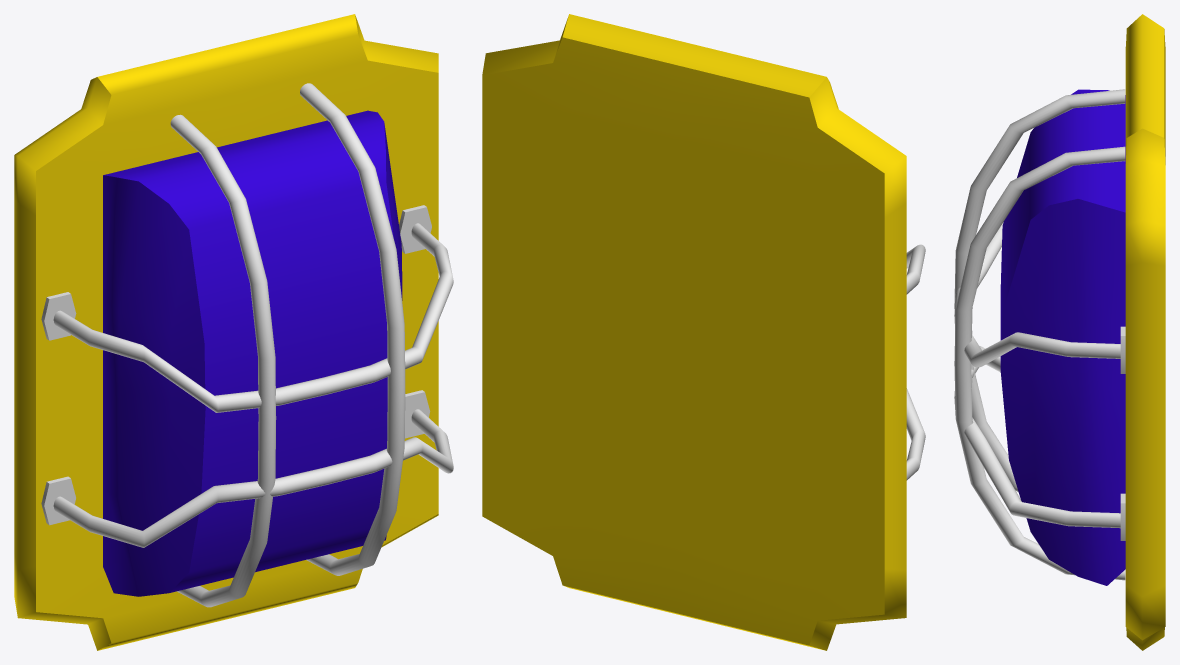
File: Light_01.FBX
3 views of the same model, side by side, from view 1: azimuth 30°, elevation 25°; view 2: azimuth 150°, elevation 25°; view 3: azimuth 270°, elevation 25° (orthographic). The views are drawn at different scales.
Visible parts, largest first — view 1: Box001, Cylinder003, Cylinder002, Cylinder001, Box004, Box003, Box002, Box005; view 2: Box001, Cylinder003; view 3: Box001, Cylinder002, Cylinder003, Cylinder001.
Part boxes in pixels (x1,y1,x2,y2): Box001: (14, 14, 438, 650); Cylinder003: (53, 223, 453, 547); Cylinder002: (300, 83, 405, 575); Cylinder001: (170, 114, 276, 607); Box004: (41, 476, 75, 525); Box003: (41, 292, 76, 340); Box002: (399, 205, 431, 253); Box005: (405, 390, 430, 438); Box001: (482, 14, 906, 650); Cylinder003: (906, 244, 925, 480); Box001: (1000, 14, 1165, 650); Cylinder002: (954, 146, 1125, 580); Cylinder003: (954, 222, 1120, 528); Cylinder001: (954, 89, 1125, 491).
Size of the model in its own units: 67.82 by 88.42 by 32.38.
